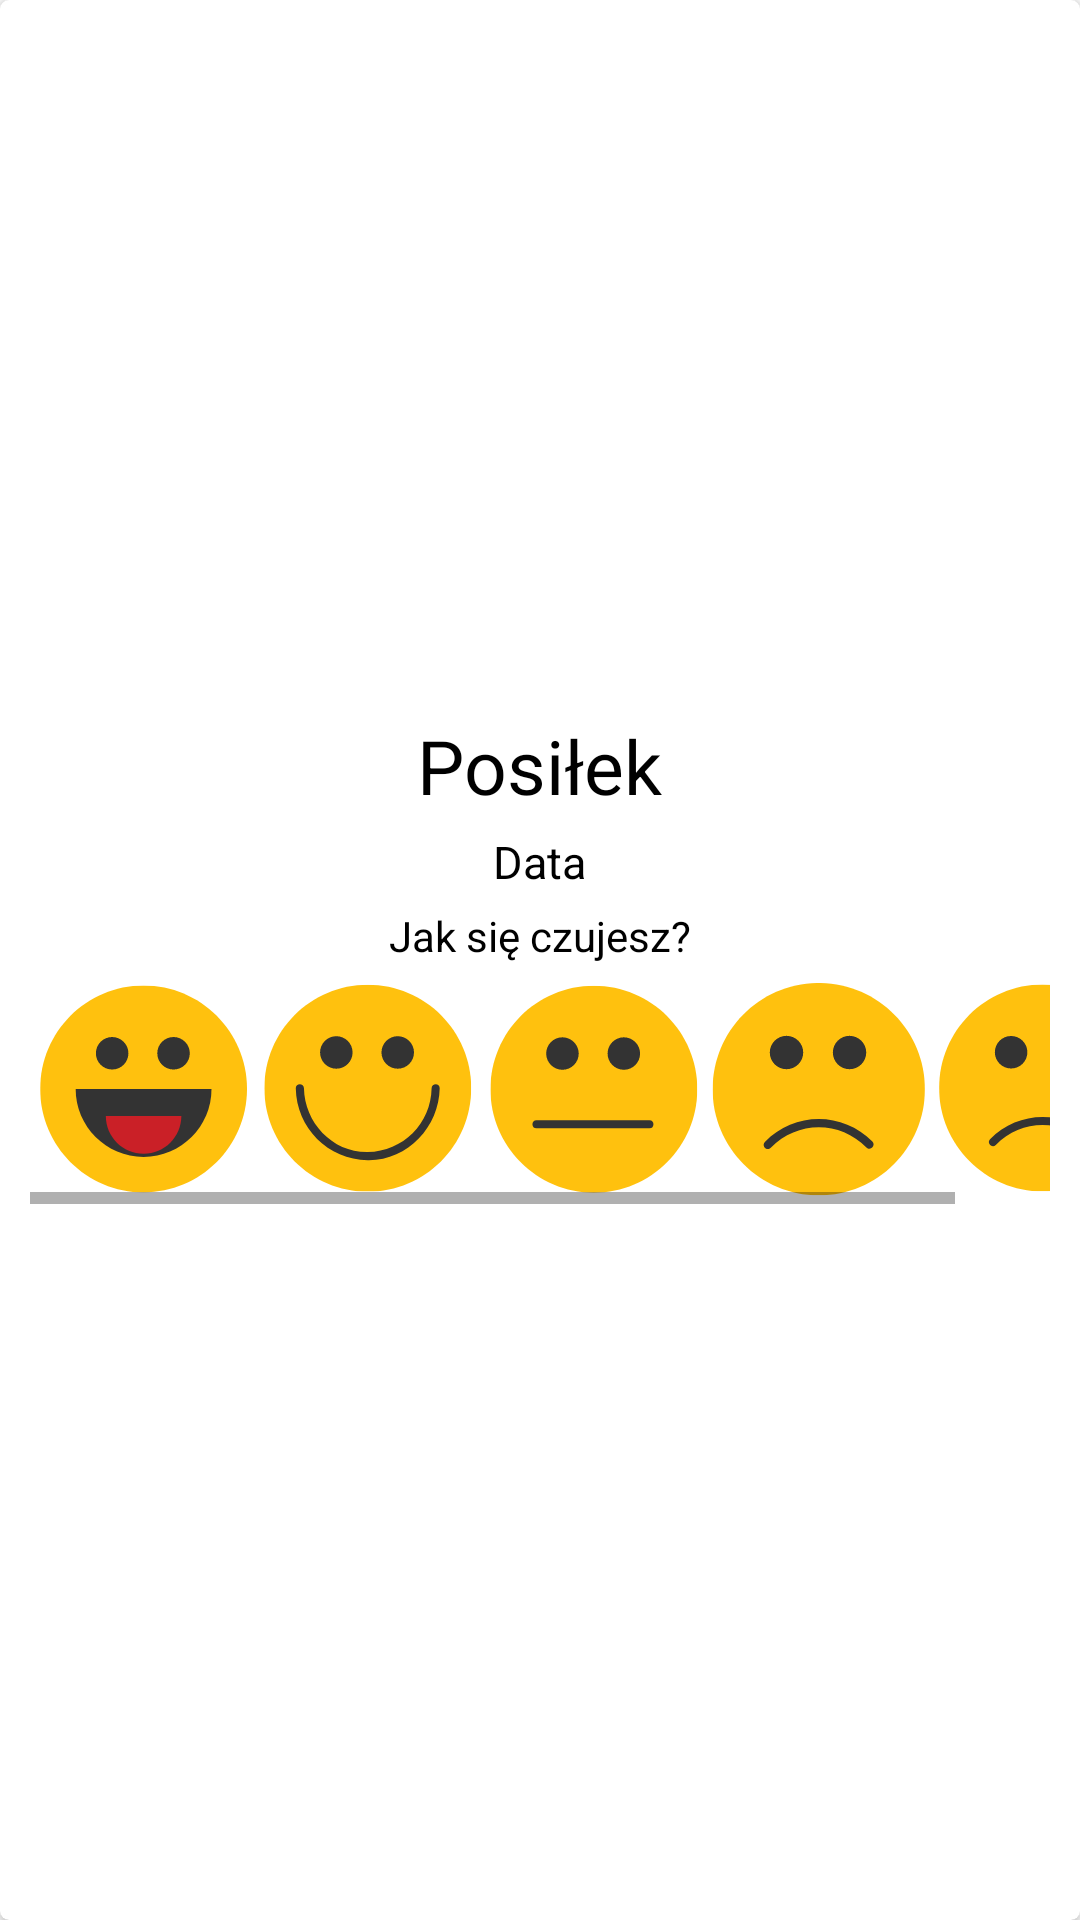

Where icons sit on this 1080px x 1920px app screen, as (left=x1, top=y1, right=x2, bottom=y2):
best: (left=30, top=985, right=255, bottom=1204)
good: (left=255, top=985, right=480, bottom=1204)
sad: (left=705, top=983, right=930, bottom=1204)
